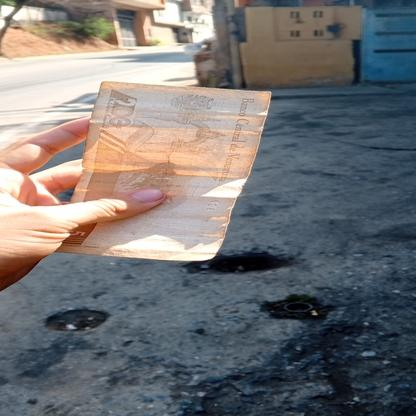five-back-vef: (52, 80, 271, 259)
